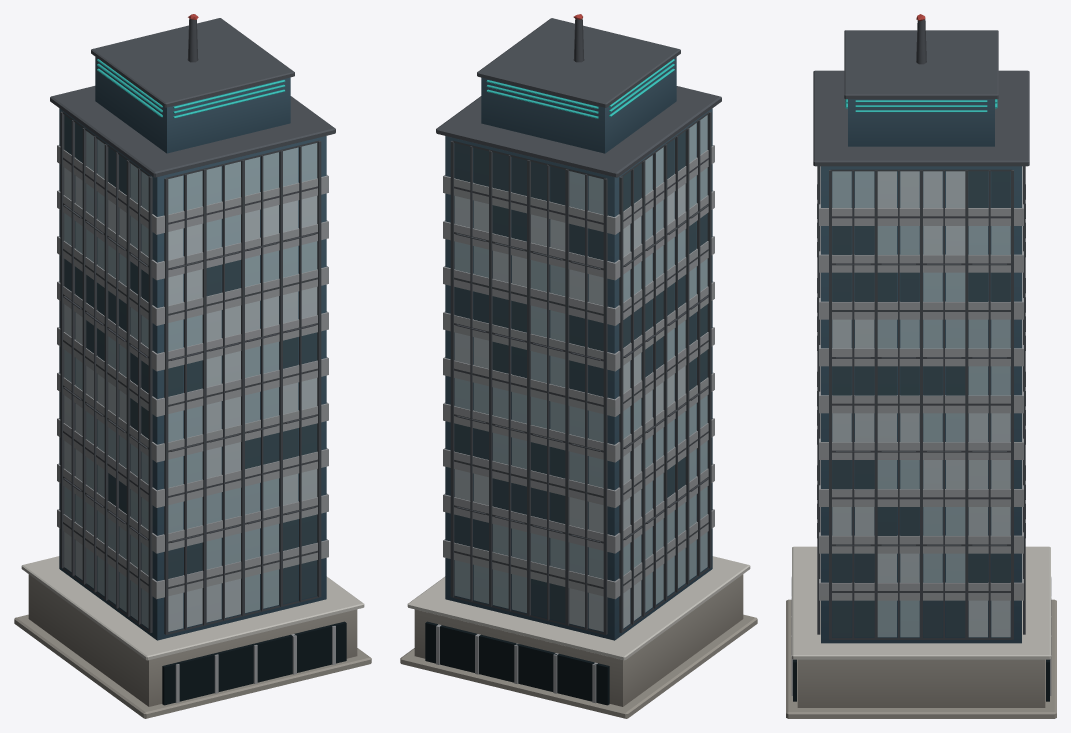
File: hf-glass-tower.glb
3 renders of one model, left to right at view 1: azimuth 30°, elevation 25°; view 2: azimuth 150°, elevation 25°; view 3: azimuth 270°, elevation 25°, orthographic. The views are drawn at different scales.
Visible parts, largest first — view 1: downtown_glass_tower; view 2: downtown_glass_tower; view 3: downtown_glass_tower.
Part boxes in pixels (x1=…): downtown_glass_tower: x1=14, y1=14, x2=371, y2=718; downtown_glass_tower: x1=400, y1=14, x2=757, y2=718; downtown_glass_tower: x1=786, y1=14, x2=1056, y2=718.
Size of the model in its own units: 14.7 by 38.79 by 14.7.
